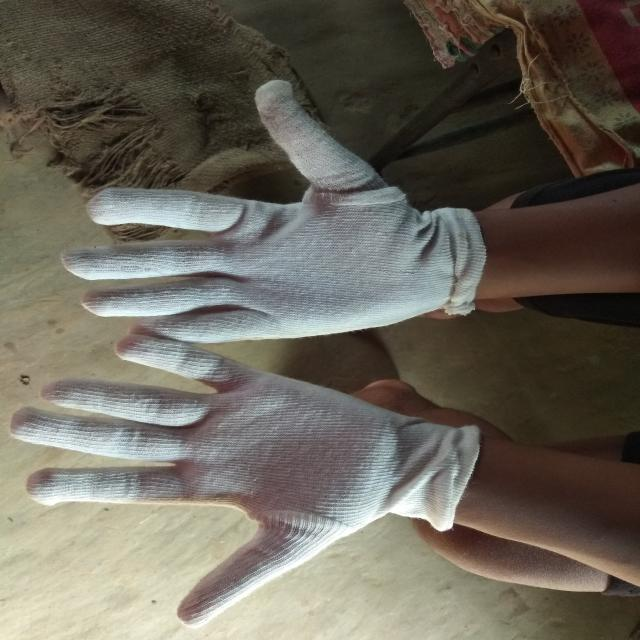Boots: (12, 340, 486, 628), (44, 66, 516, 343)
